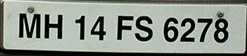character: (17, 11, 41, 39), (43, 13, 63, 39), (135, 15, 153, 42), (196, 17, 213, 43), (117, 15, 134, 40), (162, 16, 178, 42), (179, 17, 195, 43), (213, 17, 229, 43), (90, 15, 106, 40), (74, 15, 85, 41)
